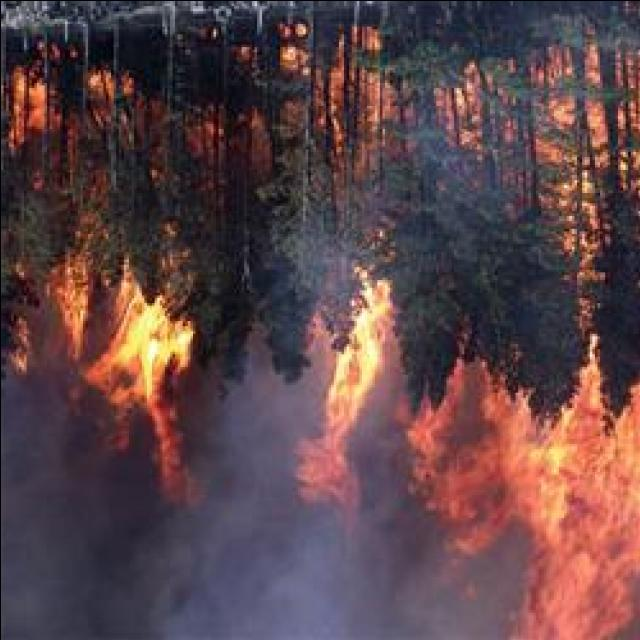fire: (530, 448, 638, 636), (468, 434, 546, 512), (116, 306, 176, 388), (334, 331, 380, 394)
smoke: (1, 466, 162, 636), (140, 516, 314, 636), (324, 558, 498, 636), (218, 392, 284, 538)
